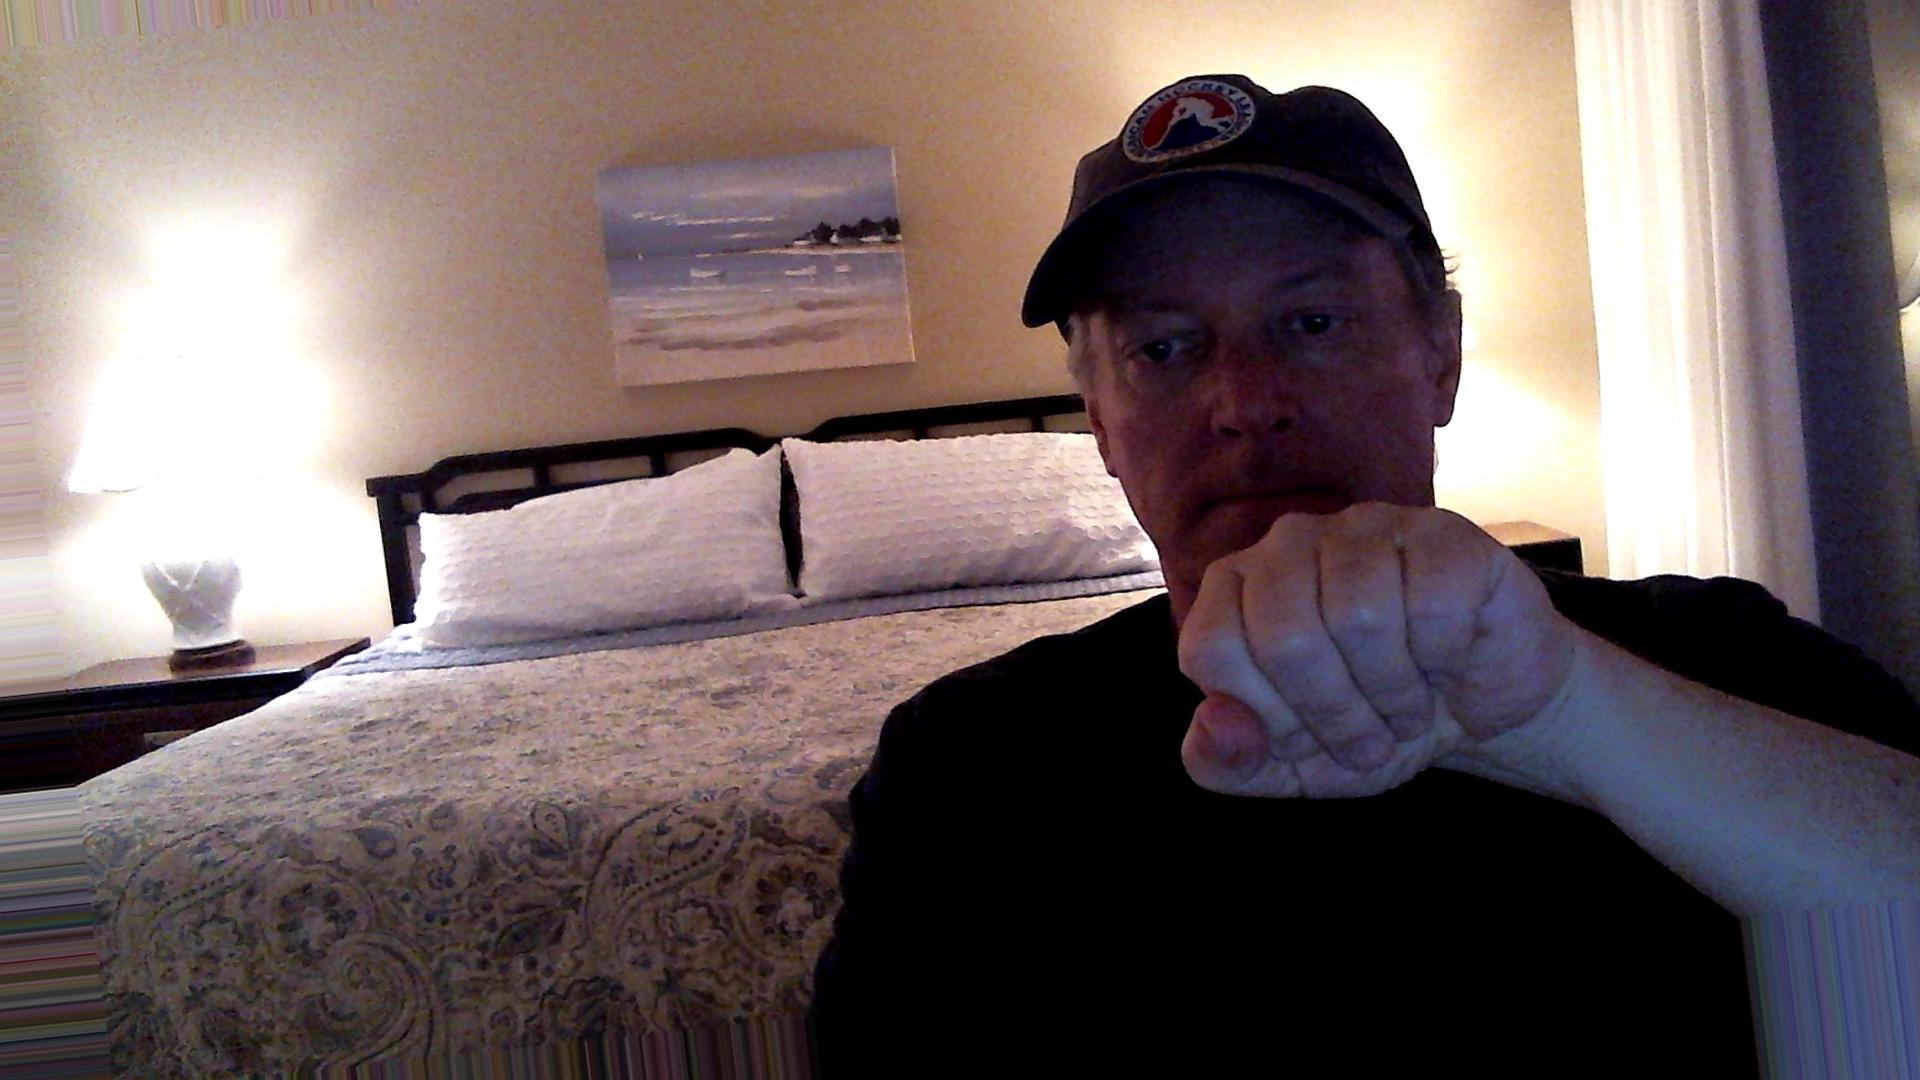Yes: (1155, 496, 1581, 818)
